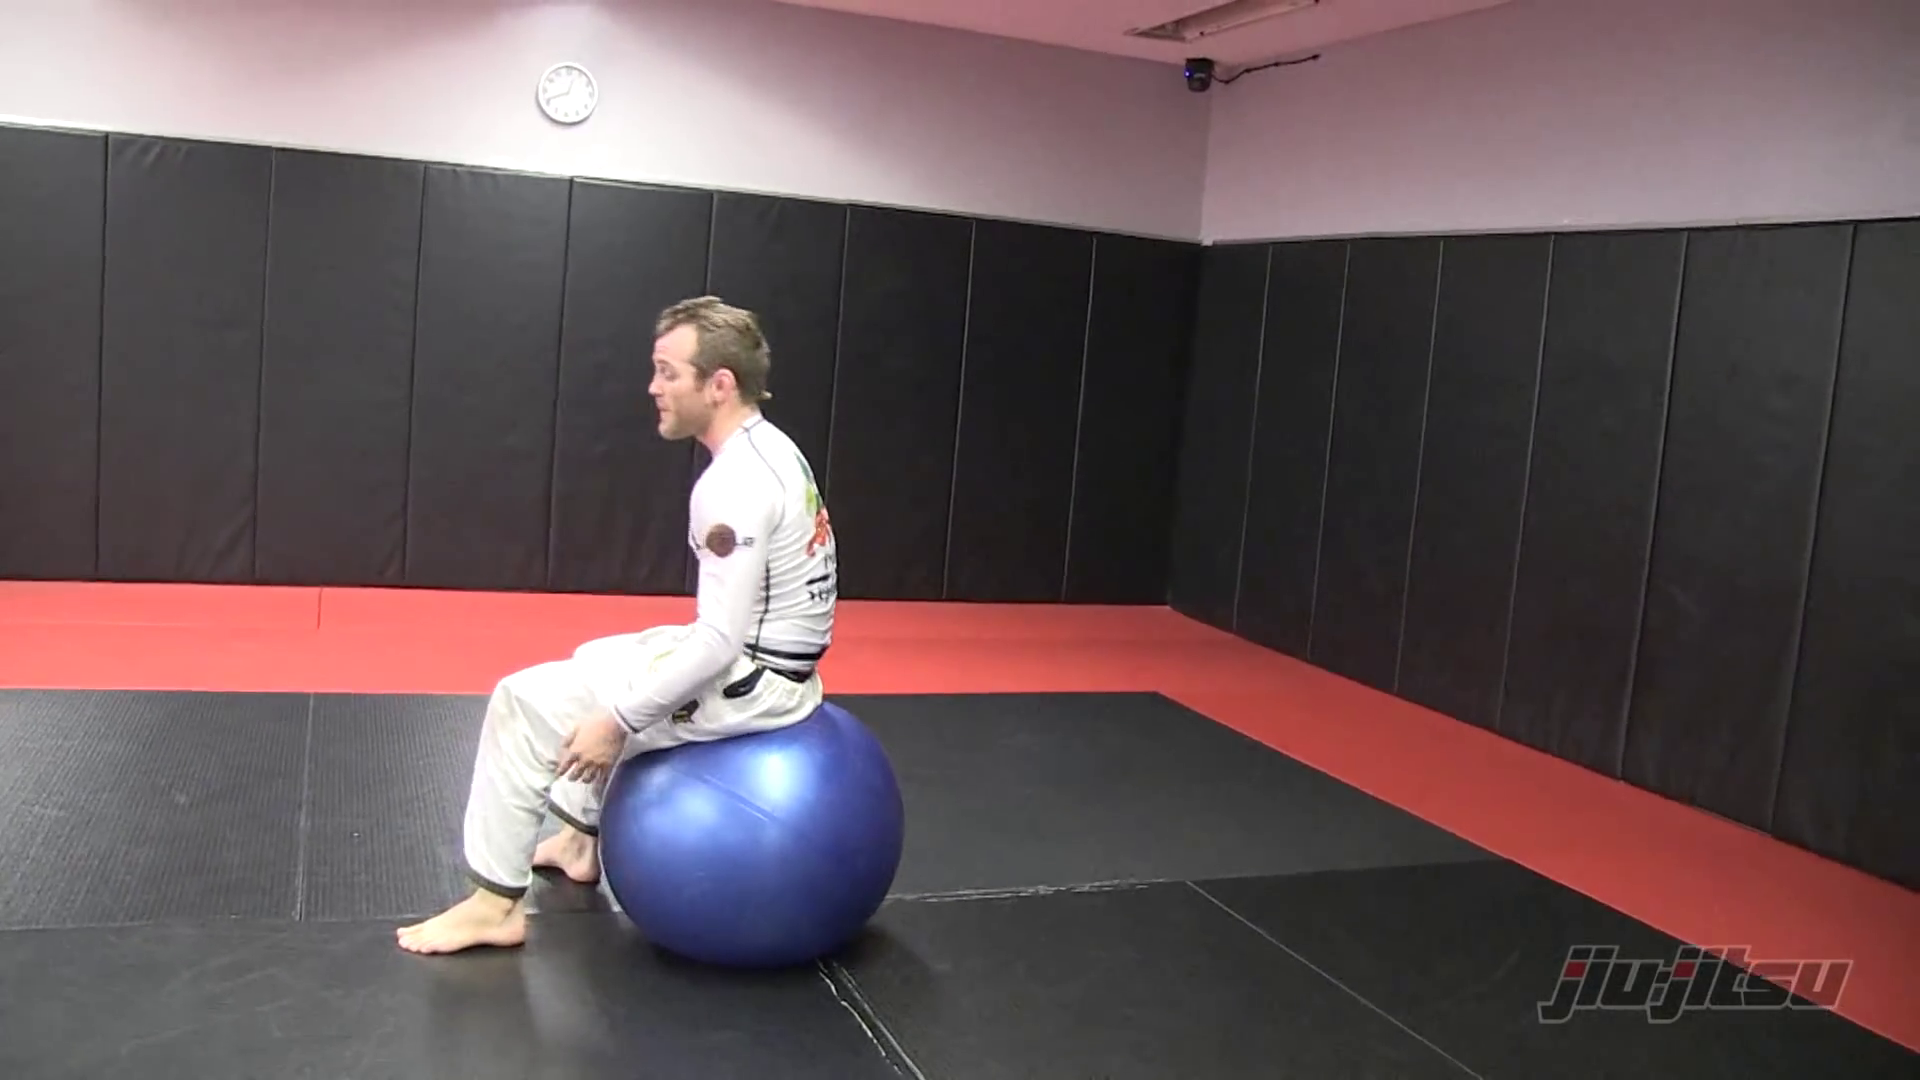yogaball: (595, 688, 916, 981)
